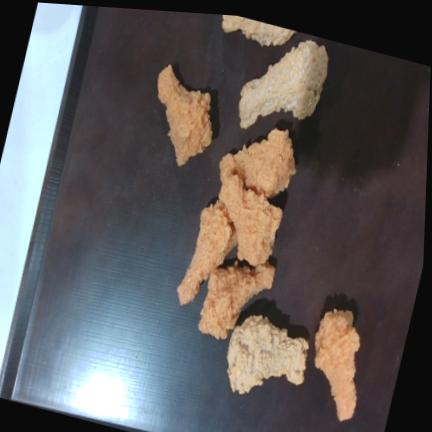chicken: (239, 40, 328, 128), (227, 315, 308, 394), (177, 201, 236, 305), (199, 261, 275, 339), (219, 175, 282, 266), (158, 65, 212, 166), (220, 128, 295, 198), (315, 309, 360, 420)
